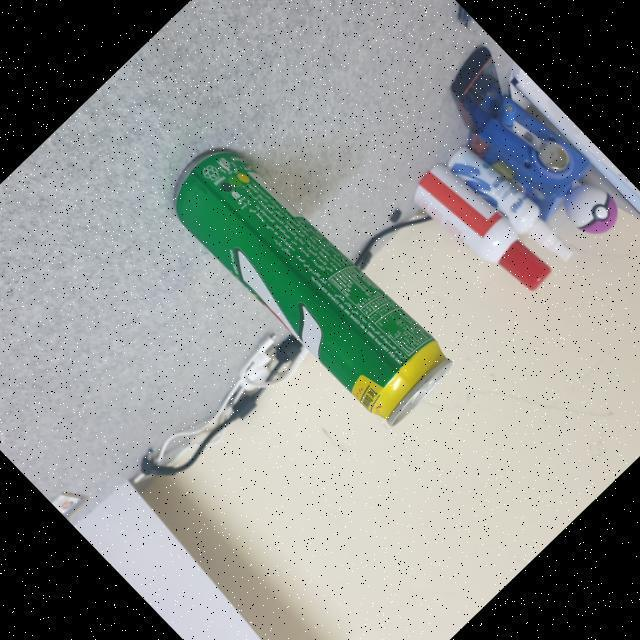can: (140, 110, 487, 462)
